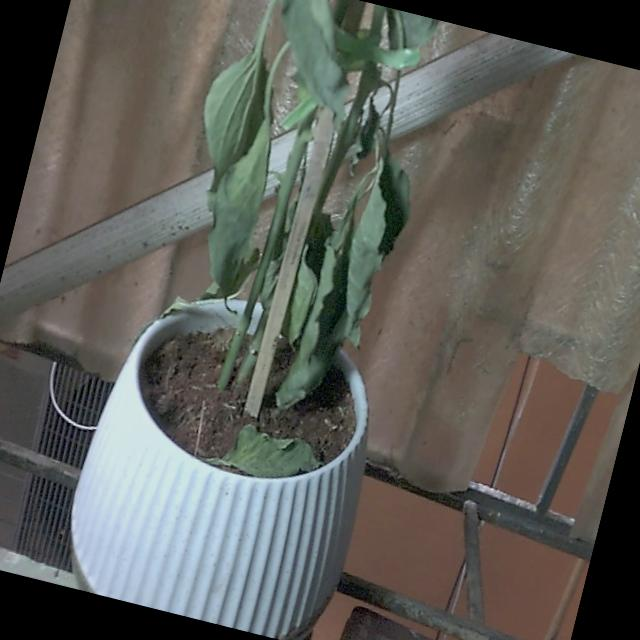Leaf: (272, 189, 378, 420), (327, 142, 427, 356), (180, 39, 288, 218), (193, 106, 284, 302), (208, 418, 324, 491)
